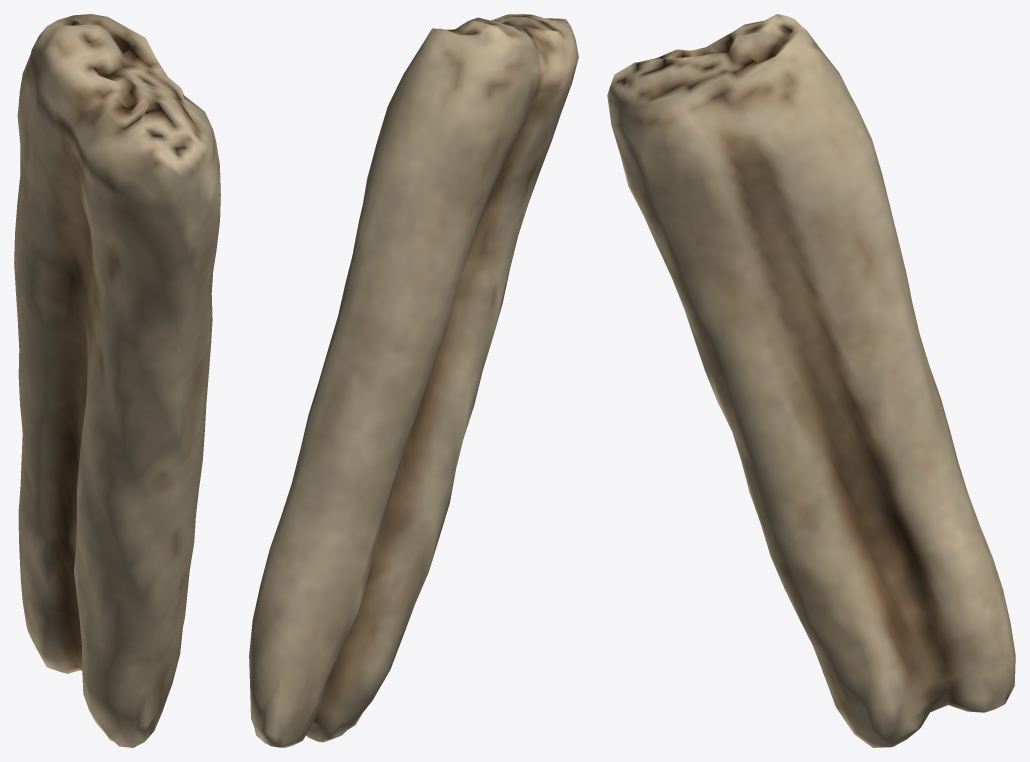
File: mandibular_molar5.glb
The picture shows the model from 3 angles, left to right: view 1: azimuth 30°, elevation 25°; view 2: azimuth 150°, elevation 25°; view 3: azimuth 270°, elevation 25°; orthographic projection. The views are drawn at different scales.
Visible parts, largest first — view 1: Group3944_Mesh.013; view 2: Group3944_Mesh.013; view 3: Group3944_Mesh.013.
Part boxes in pixels (box(x1,y1,x2,y2)): Group3944_Mesh.013: box(14, 14, 220, 747); Group3944_Mesh.013: box(249, 14, 578, 747); Group3944_Mesh.013: box(607, 14, 1015, 747).
Bounding box in the file's own units: 0.0229 × 0.086 × 0.047.
Materials: 1 (1 with a texture image).
